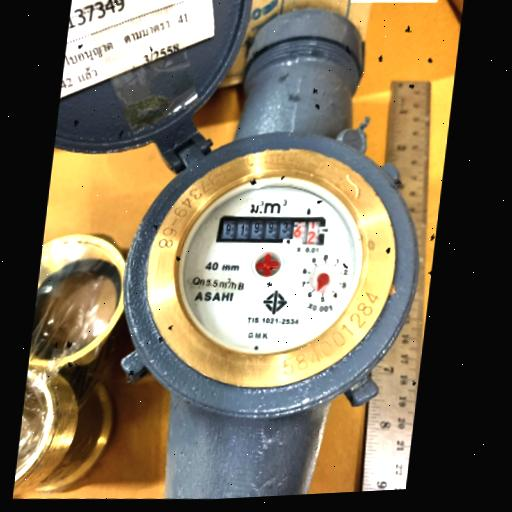1: (237, 220, 250, 239)
2: (307, 222, 319, 244)
3: (279, 221, 291, 239)
6: (293, 220, 306, 239)
9: (221, 220, 235, 240), (264, 220, 278, 239), (250, 220, 263, 240)
border_water_meter_number: (216, 210, 328, 251)
